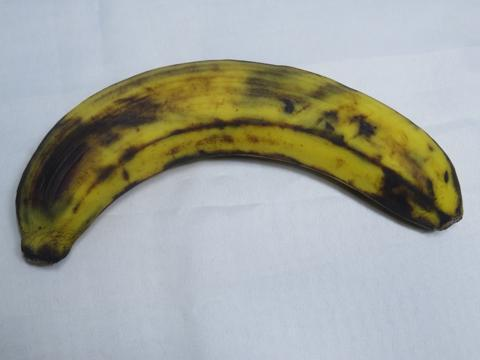overripe: (14, 53, 478, 276)
